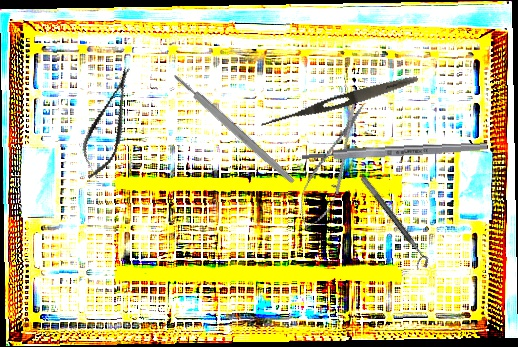Dressing Forceps: (259, 71, 420, 133)
Fixation Ring: (352, 174, 433, 274)
Micro Scissor: (288, 93, 377, 237), (71, 61, 147, 185)
Scalpel Handle: (171, 71, 297, 186), (301, 141, 488, 162)
